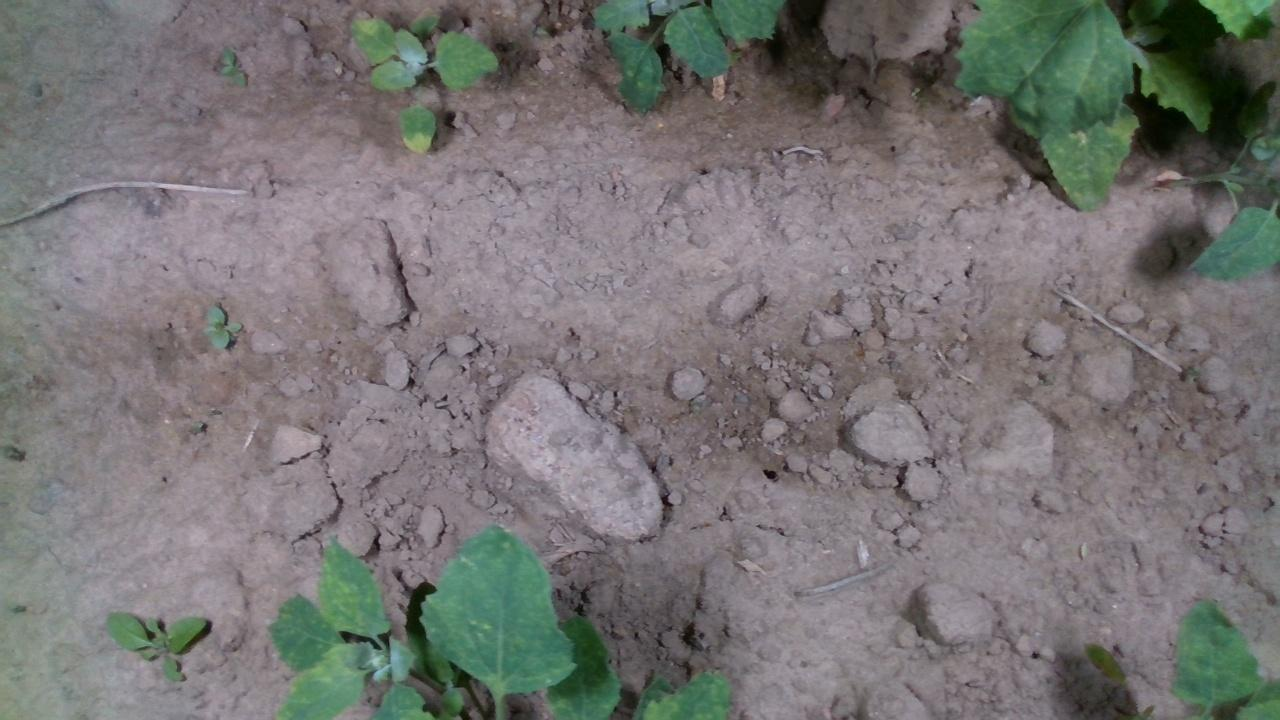weed: (192, 299, 236, 353), (216, 43, 250, 90)
